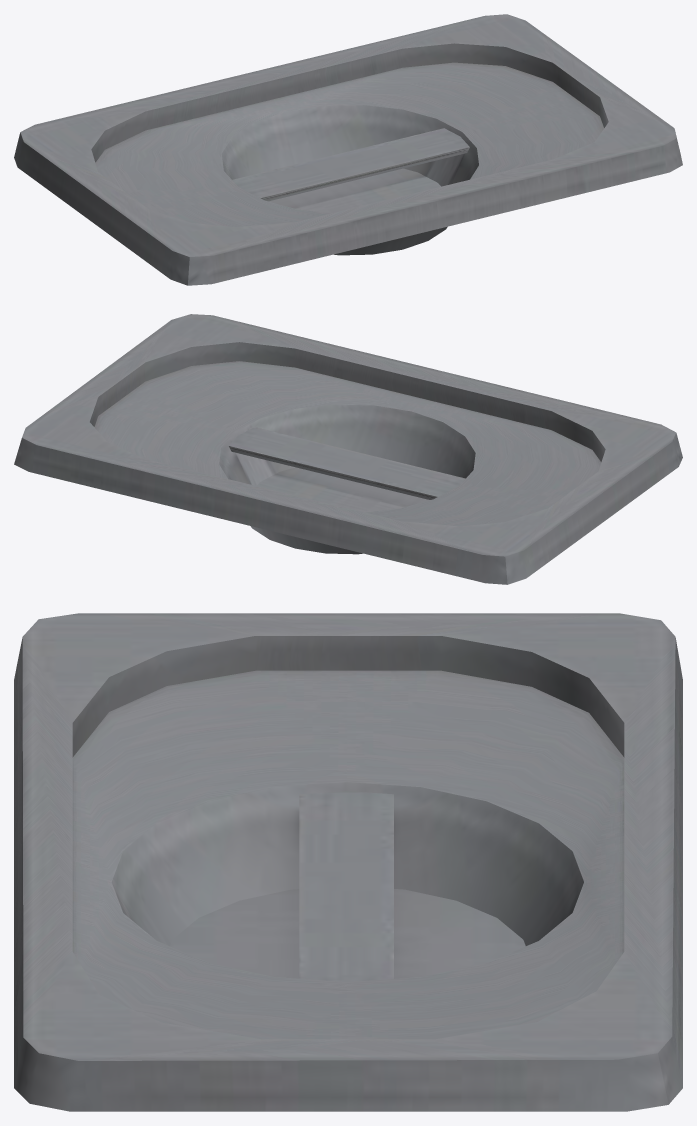
File: SM_Hotel_Pan_1_9_Lid_01.glb
3 views of the same model, one above another, from view 1: azimuth 30°, elevation 25°; view 2: azimuth 150°, elevation 25°; view 3: azimuth 270°, elevation 25° (orthographic). The views are drawn at different scales.
Visible parts, largest first — view 1: SM_Hotel_Pan_1_9_Lid_01; view 2: SM_Hotel_Pan_1_9_Lid_01; view 3: SM_Hotel_Pan_1_9_Lid_01.
Boxes of the visible parts, x1=… form: SM_Hotel_Pan_1_9_Lid_01: x1=14, y1=14, x2=682, y2=285; SM_Hotel_Pan_1_9_Lid_01: x1=14, y1=314, x2=682, y2=584; SM_Hotel_Pan_1_9_Lid_01: x1=14, y1=613, x2=682, y2=1111.
Bounding box in the file's own units: 0.1791 × 0.0255 × 0.1114.
1 material, 1 textured.
